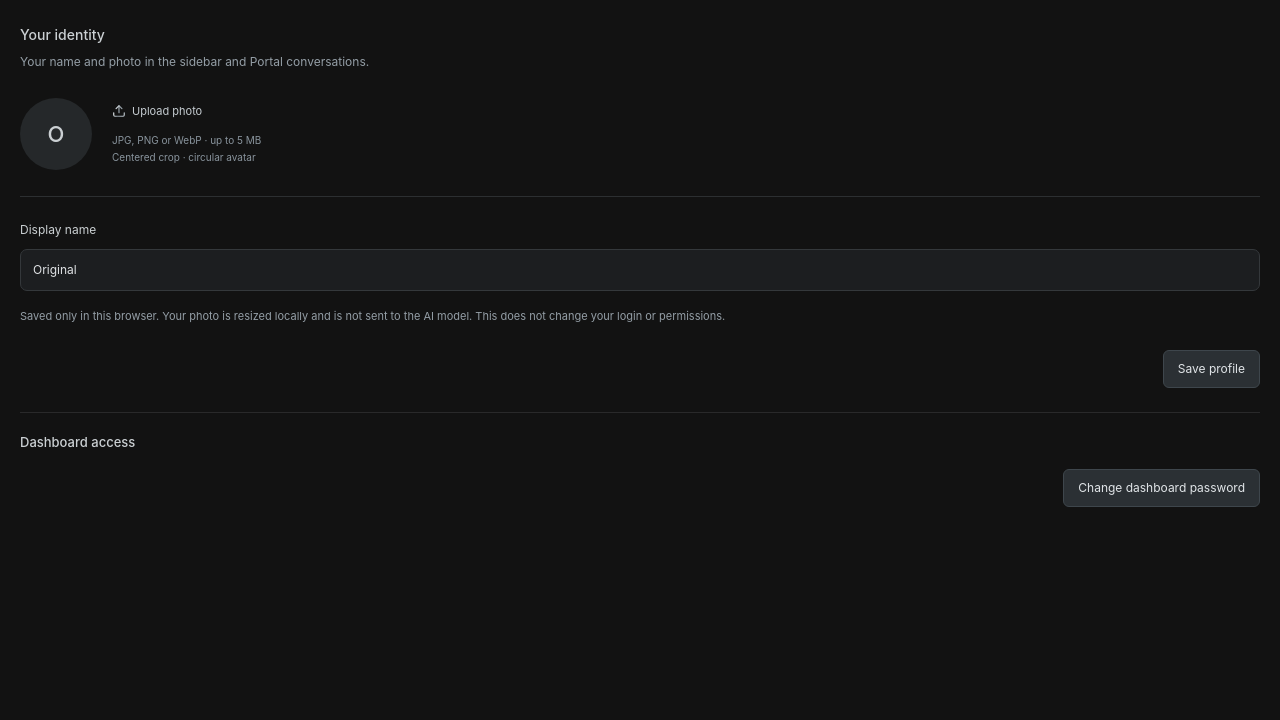
it: preserves an unsaved name while accepting a photo saved in another tab
Replace the text in the field labelled "Display name" with "My unsaved name" at coordinates (640, 270), box [20,249,1260,291]
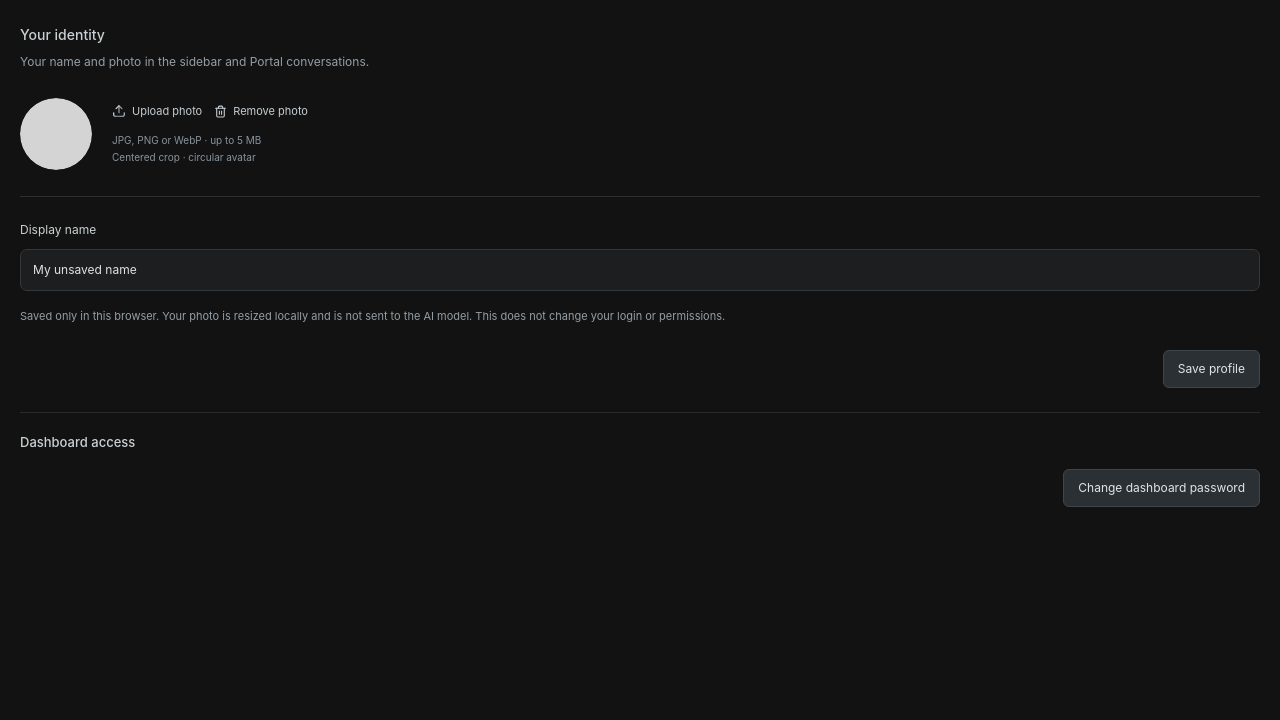
Click the button "Save profile".
click(1211, 369)  # box [1163,350,1260,388]
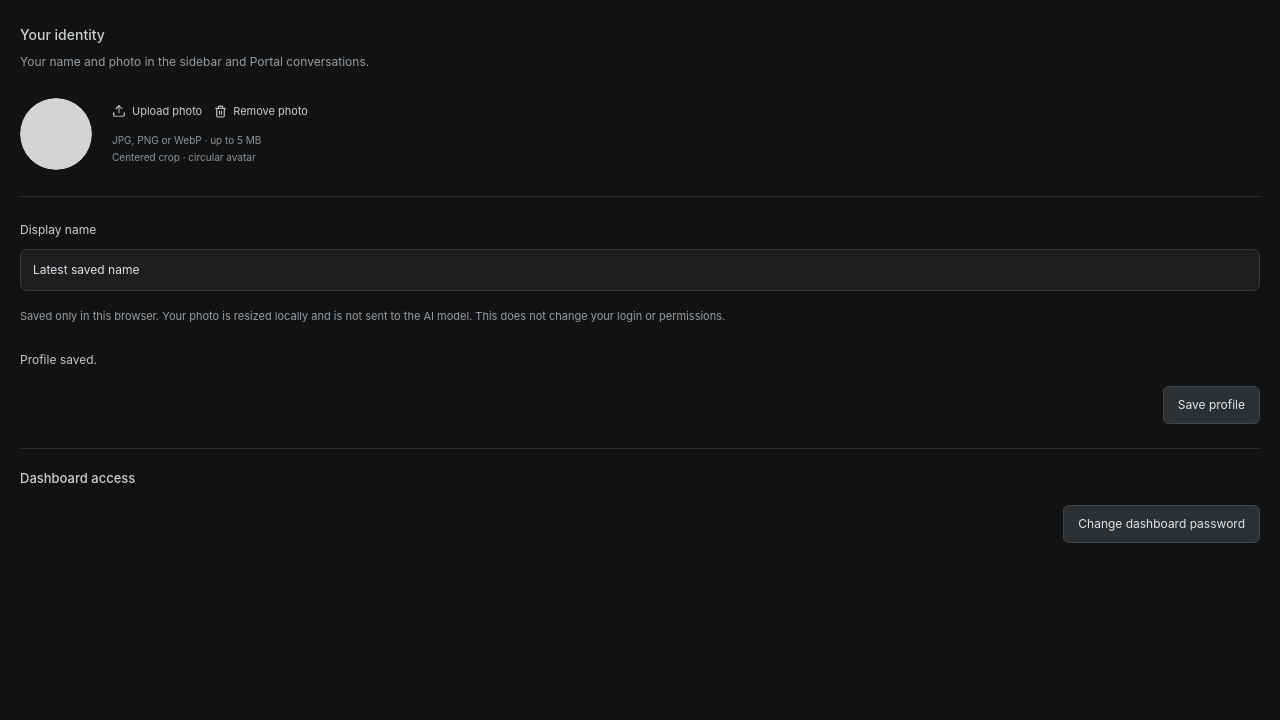
Now the field labelled "Display name" holds "Latest saved name", box [20,249,1260,291]
